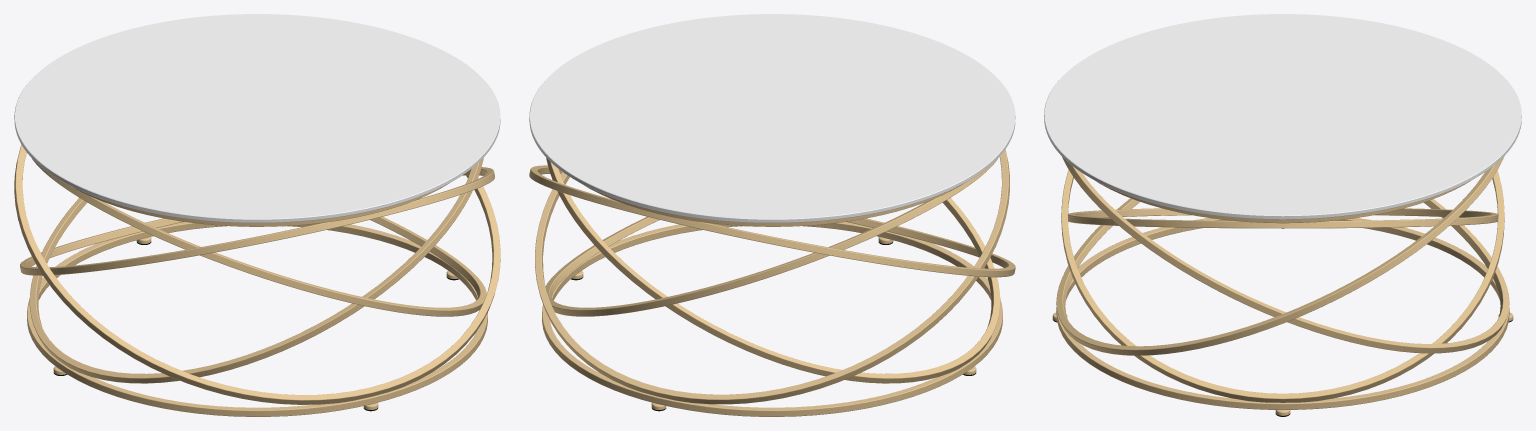
File: coffee_table.glb
3 renders of one model, left to right at view 1: azimuth 30°, elevation 25°; view 2: azimuth 150°, elevation 25°; view 3: azimuth 270°, elevation 25°, orthographic.
Visible parts, largest first — view 1: Cylinder.009, Plane.004, Plane, Plane.003, Plane.005, Plane.002, Plane.001; view 2: Cylinder.009, Plane, Plane.002, Plane.003, Plane.004, Plane.005, Plane.001; view 3: Cylinder.009, Plane, Plane.005, Plane.004, Plane.002, Plane.003, Plane.001.
Part boxes in pixels (x1,y1,x2,y2): Cylinder.009: [14, 14, 500, 222]; Plane.004: [14, 145, 500, 404]; Plane: [27, 222, 487, 416]; Plane.003: [29, 157, 483, 383]; Plane.005: [32, 159, 486, 316]; Plane.002: [20, 167, 494, 275]; Plane.001: [67, 184, 447, 226]; Cylinder.009: [529, 14, 1015, 222]; Plane: [542, 222, 1002, 416]; Plane.002: [535, 149, 1009, 404]; Plane.003: [546, 157, 1000, 383]; Plane.004: [529, 165, 1015, 277]; Plane.005: [545, 159, 997, 316]; Plane.001: [582, 184, 962, 226]; Cylinder.009: [1044, 14, 1521, 219]; Plane: [1056, 218, 1509, 409]; Plane.005: [1061, 170, 1504, 402]; Plane.004: [1056, 156, 1504, 355]; Plane.002: [1062, 157, 1509, 353]; Plane.003: [1068, 208, 1497, 228]; Plane.001: [1096, 181, 1469, 223].
Bounding box in the file's own units: 0.6642 × 0.3097 × 0.6536.
